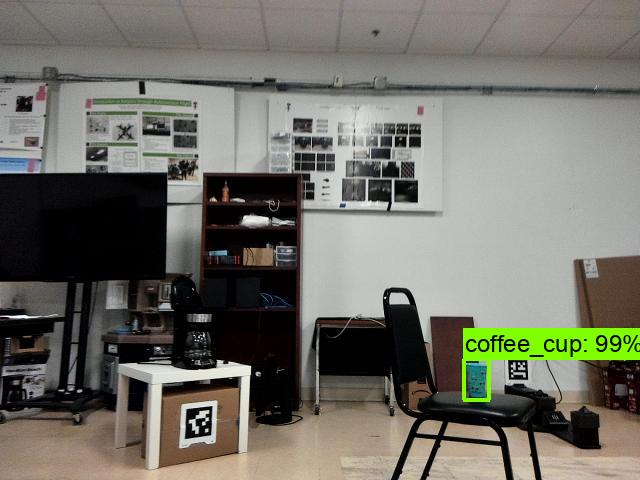coffee_cup: (464, 360, 490, 401)
